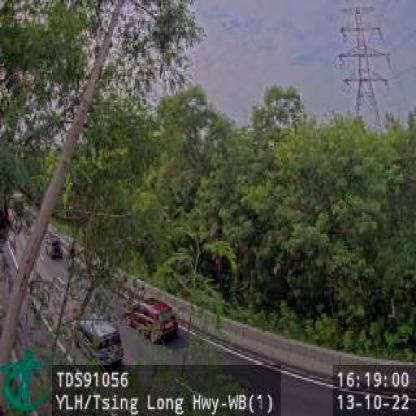Car: (77, 318, 124, 368), (127, 300, 178, 343), (45, 234, 61, 259)
